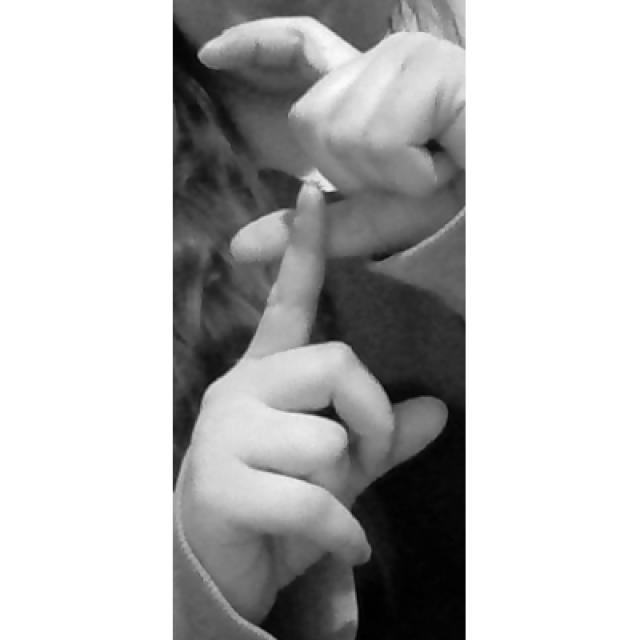C_: (186, 12, 465, 640)
